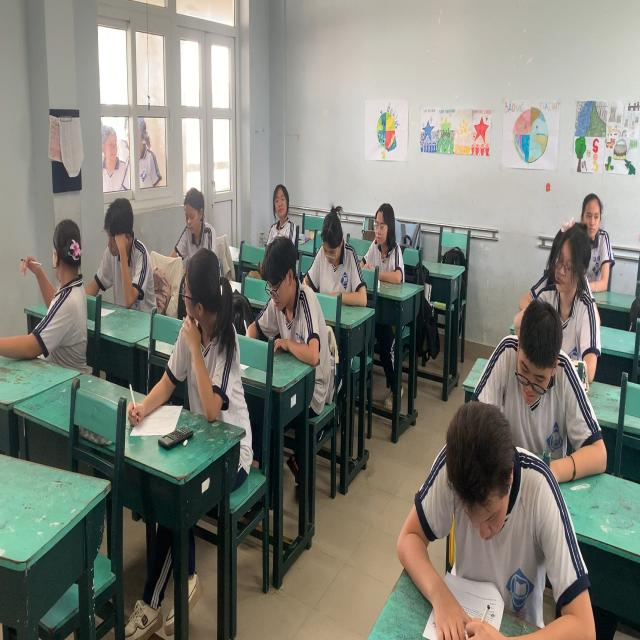cheating: (17, 218, 89, 370), (177, 248, 239, 414)
not_cheating: (402, 393, 548, 617), (486, 296, 580, 465), (536, 220, 598, 372), (256, 241, 319, 365), (95, 202, 155, 300), (358, 193, 408, 306), (317, 206, 363, 314), (581, 186, 614, 292), (169, 175, 212, 252), (257, 169, 297, 248)
